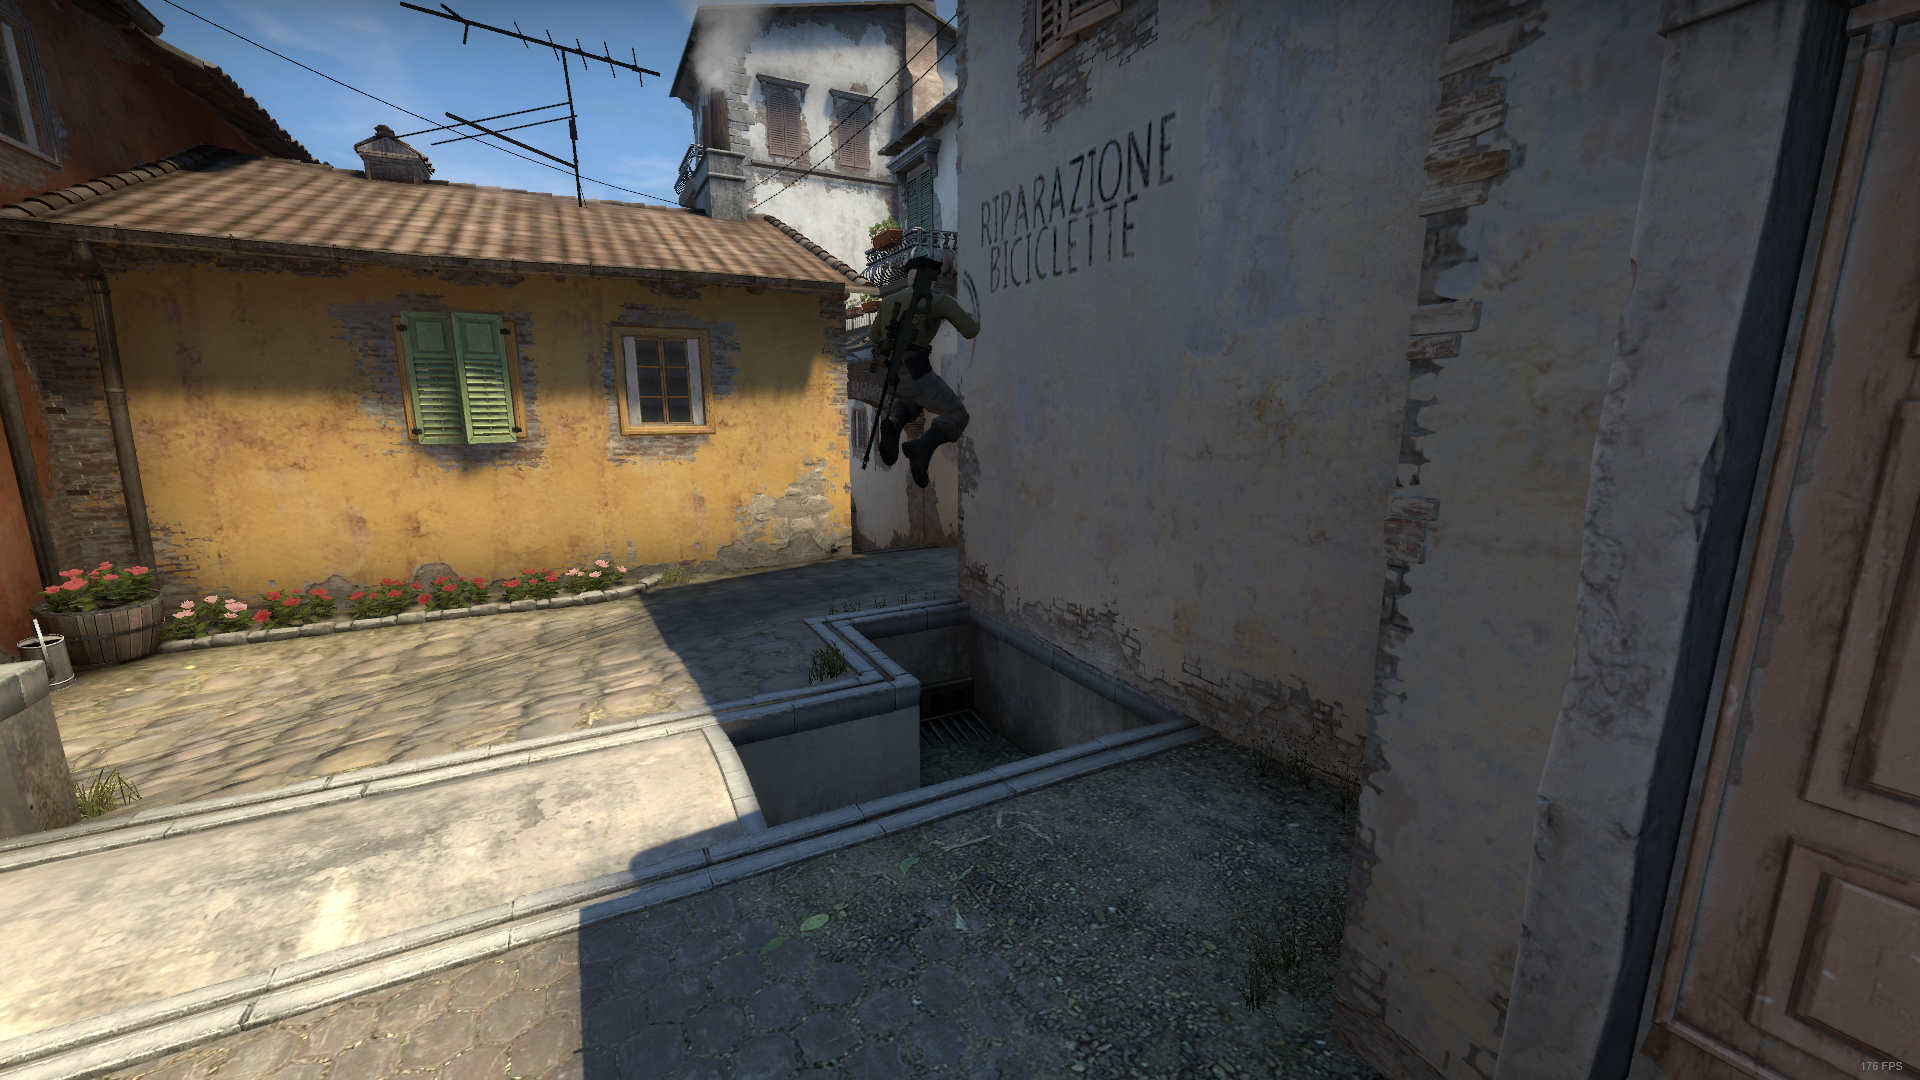t: (862, 251, 982, 491)
